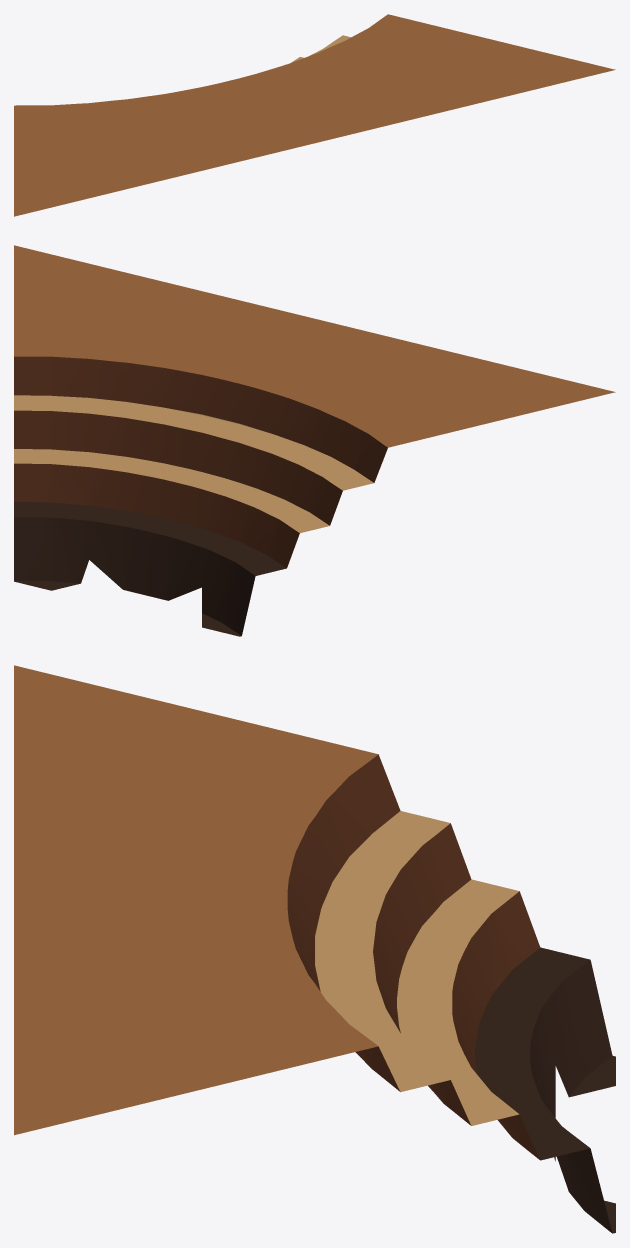
The model's file is MODULE_STEPWELL_LINE_SHORT.fbx.
3 views of the same model, one above another, from view 1: azimuth 30°, elevation 25°; view 2: azimuth 150°, elevation 25°; view 3: azimuth 270°, elevation 25° (orthographic). The views are drawn at different scales.
Visible parts, largest first — view 1: MODULE_STEPWELL_LINE_SHORT__export; view 2: MODULE_STEPWELL_LINE_SHORT__export; view 3: MODULE_STEPWELL_LINE_SHORT__export.
Boxes of the visible parts, bbox=[...] form: MODULE_STEPWELL_LINE_SHORT__export: bbox=[14, 14, 615, 216]; MODULE_STEPWELL_LINE_SHORT__export: bbox=[14, 245, 615, 636]; MODULE_STEPWELL_LINE_SHORT__export: bbox=[14, 665, 615, 1233].
Size of the model in its own units: 100 by 24.25 by 54.13.
